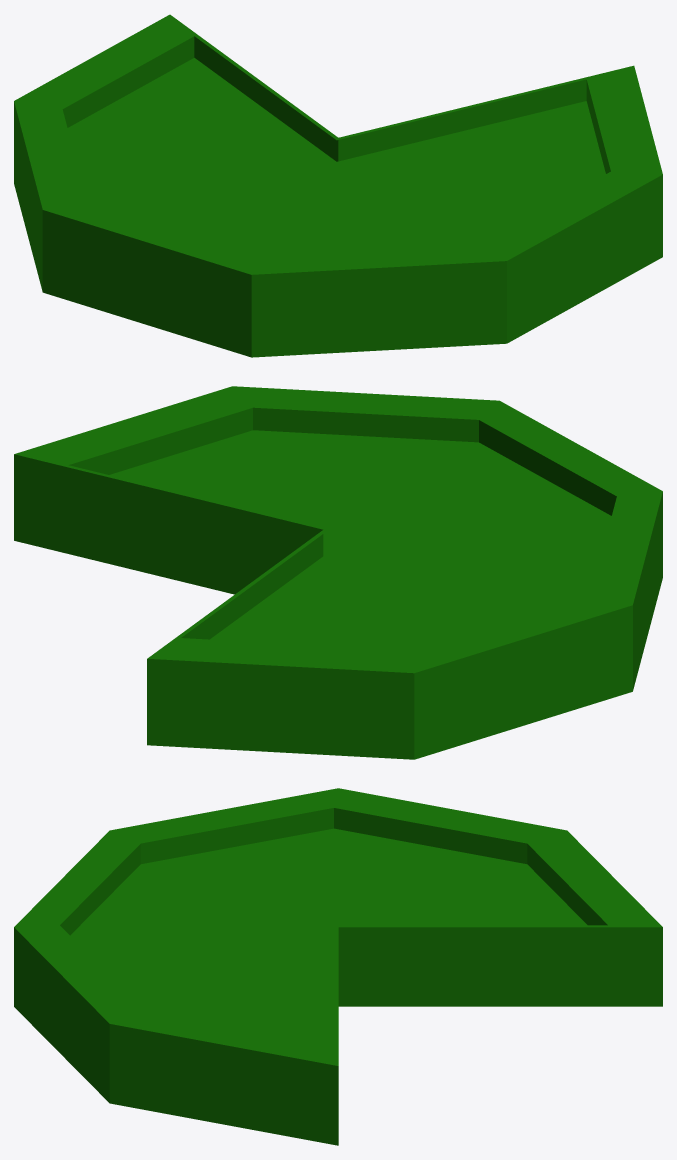
File: Lily Pad.fbx
The picture shows the model from 3 angles, top to bottom: view 1: azimuth 30°, elevation 25°; view 2: azimuth 150°, elevation 25°; view 3: azimuth 270°, elevation 25°; orthographic projection. The views are drawn at different scales.
Parts seen in each view (by area): view 1: Cube.002; view 2: Cube.002; view 3: Cube.002.
Boxes of the visible parts, box(x1,y1,x2,y2) form: Cube.002: box(14, 14, 662, 357); Cube.002: box(14, 386, 662, 759); Cube.002: box(14, 788, 662, 1145).
Size of the model in its own units: 287 by 38.41 by 284.
